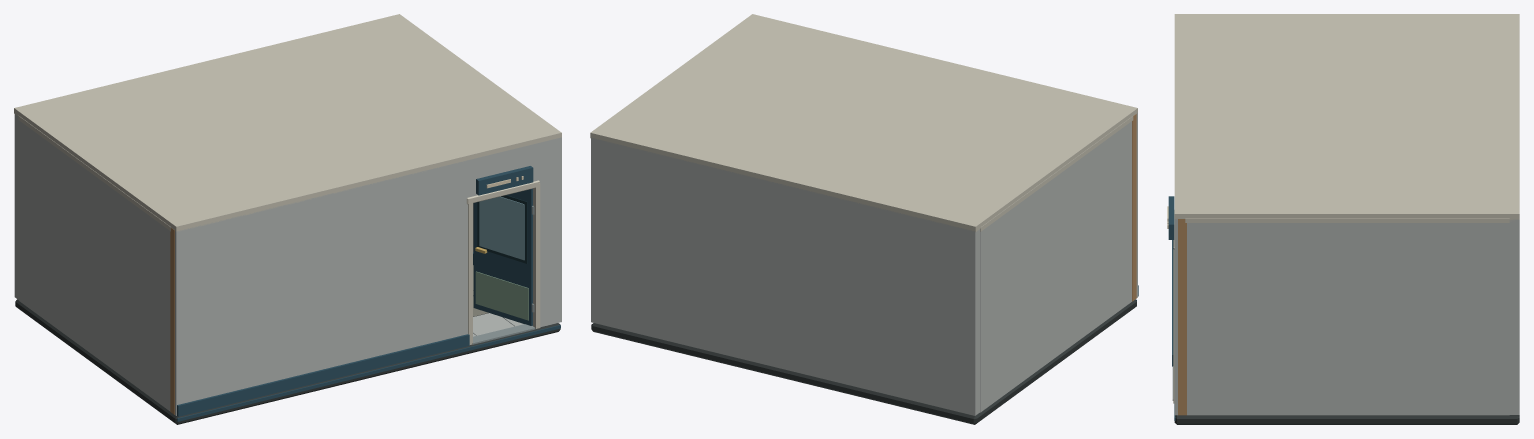
File: storage.glb
3 views of the same model, side by side, from view 1: azimuth 30°, elevation 25°; view 2: azimuth 150°, elevation 25°; view 3: azimuth 270°, elevation 25° (orthographic). The views are drawn at different scales.
Parts seen in each view (by area): view 1: cutaway_ceiling_room, cutaway_front_room, cutaway_side_left, room_architecture, intact_door; view 2: room_architecture, cutaway_ceiling_room, cutaway_side_left; view 3: cutaway_ceiling_room, cutaway_side_right, room_architecture, cutaway_front_room.
Boxes of the visible parts, x1,y1,x2,y2 form: cutaway_ceiling_room: (14,14,561,231); cutaway_front_room: (175,137,561,416); cutaway_side_left: (18,115,174,414); room_architecture: (14,114,560,424); intact_door: (473,188,534,325); room_architecture: (591,137,1136,424); cutaway_ceiling_room: (590,14,1137,232); cutaway_side_left: (980,114,1136,412); cutaway_ceiling_room: (1174,14,1519,219); cutaway_side_right: (1178,218,1509,415); room_architecture: (1167,196,1519,424); cutaway_front_room: (1172,219,1177,415).
Size of what is drawn, in the model's own units: 6.65 by 3.28 by 4.94.
